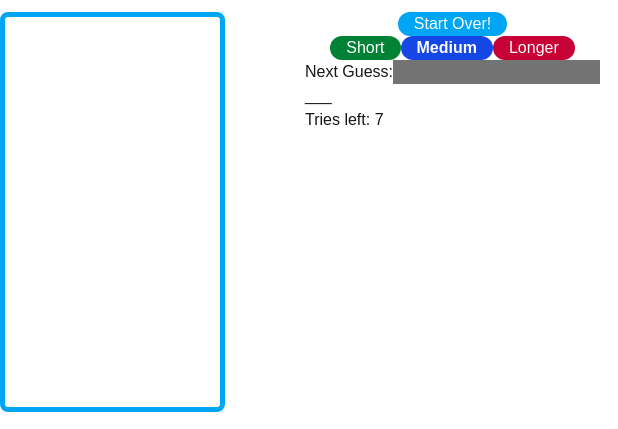
Scenario: SnowmanGame › resets the game when a difficulty button is clicked
This screenshot has width=618, height=429.
In the field labelled "Next Guess:": (496, 72) [393, 60, 600, 84], type "z"
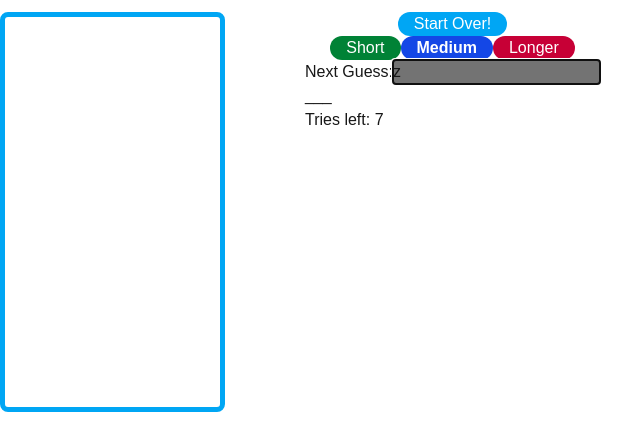
Press Enter
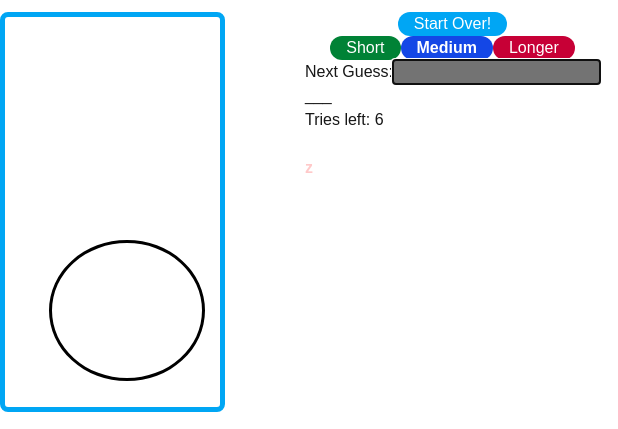
Expected: the text "Tries left: 6" is shown, [305, 111, 384, 128]
Click the button "Short": (365, 48) [330, 36, 401, 60]
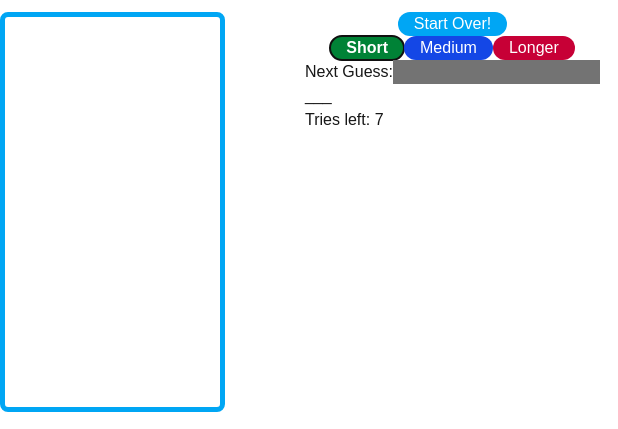
Expected: the text "Tries left: 7" is shown, [305, 111, 384, 128]
